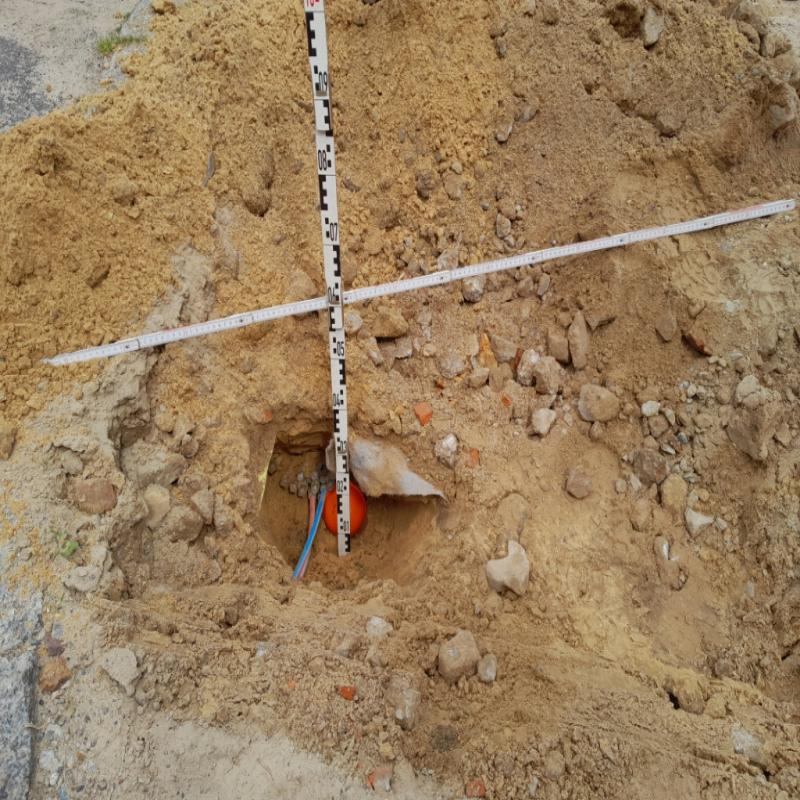Kugelmarker: (323, 480, 366, 537)
